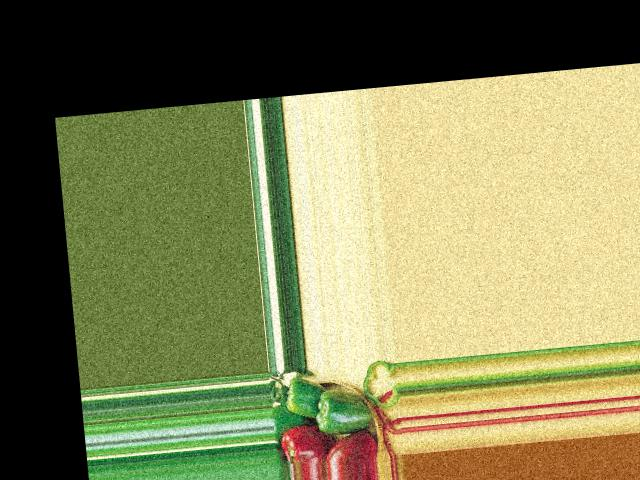bell_pepper: (323, 432, 378, 461)
